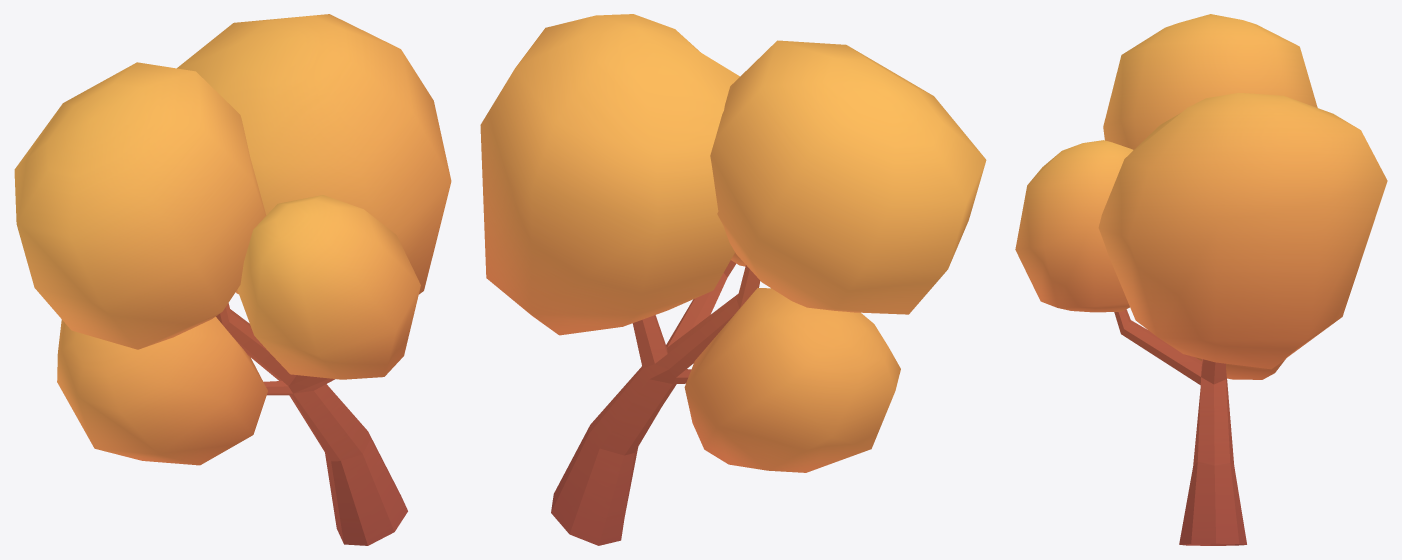
Rendered from Tree4_Yellow.glb.
3 views of the same model, side by side, from view 1: azimuth 30°, elevation 25°; view 2: azimuth 150°, elevation 25°; view 3: azimuth 270°, elevation 25° (orthographic). The views are drawn at different scales.
Visible parts, largest first — view 1: Tree4_Yellow; view 2: Tree4_Yellow; view 3: Tree4_Yellow.
Boxes of the visible parts, box(x1,y1,x2,y2) form: Tree4_Yellow: box(14, 14, 451, 545); Tree4_Yellow: box(480, 14, 986, 545); Tree4_Yellow: box(1015, 14, 1387, 545).
Size of the model in its own units: 3.57 by 4.11 by 3.12.
1 material, 1 textured.
